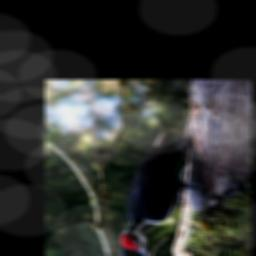Woodpecker: (119, 121, 214, 256)
